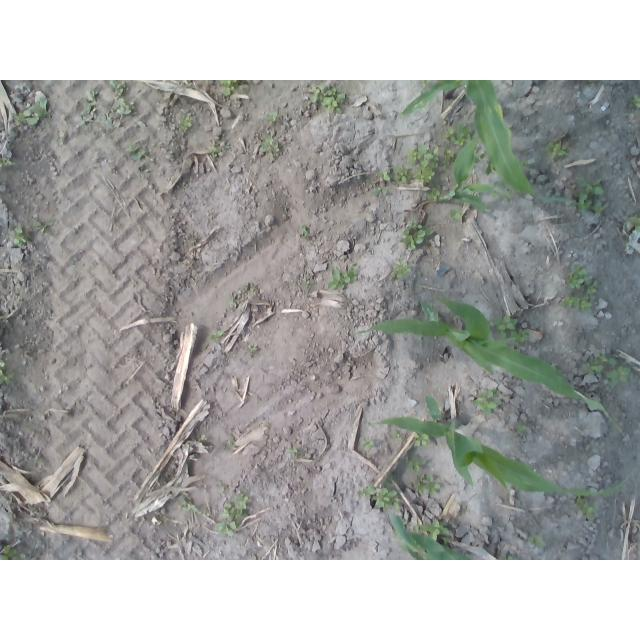Maize: (356, 297, 625, 435), (368, 392, 632, 500), (397, 81, 575, 208), (438, 136, 511, 213), (385, 510, 474, 560)
Weeds: (216, 492, 249, 536), (10, 96, 51, 129), (407, 144, 439, 184), (573, 178, 606, 216), (493, 315, 530, 346), (310, 84, 347, 115), (399, 220, 434, 250), (442, 122, 474, 149), (471, 387, 501, 415), (79, 89, 98, 132), (606, 358, 631, 386), (328, 267, 358, 290), (127, 145, 151, 173), (420, 519, 448, 541), (414, 475, 440, 498), (560, 295, 593, 313), (372, 488, 401, 508), (565, 265, 588, 290), (583, 352, 606, 376), (544, 137, 568, 159), (576, 496, 596, 520), (260, 134, 280, 158), (402, 454, 426, 472), (390, 258, 410, 279), (1, 359, 16, 385), (32, 217, 54, 234), (493, 181, 512, 199), (392, 166, 412, 183), (0, 544, 20, 560), (12, 226, 28, 246), (116, 97, 133, 115), (221, 80, 240, 96), (106, 81, 126, 96), (581, 278, 598, 295), (412, 430, 430, 446), (527, 534, 547, 548), (444, 147, 456, 170), (180, 498, 199, 512), (357, 485, 376, 499), (426, 186, 441, 202), (179, 114, 193, 130), (472, 150, 488, 163), (628, 215, 640, 232), (361, 438, 375, 451), (516, 420, 528, 435), (485, 161, 497, 176), (372, 187, 389, 197), (383, 474, 397, 486), (377, 170, 391, 182), (1, 157, 16, 168), (207, 145, 220, 157), (449, 208, 462, 220), (209, 329, 223, 340), (629, 95, 640, 109), (286, 448, 302, 457), (266, 111, 279, 122), (393, 430, 403, 442), (301, 225, 310, 237), (518, 159, 530, 168), (228, 297, 237, 307), (505, 554, 520, 560), (302, 280, 311, 289), (443, 536, 453, 544), (401, 517, 408, 528), (412, 526, 420, 535), (249, 342, 258, 350), (420, 80, 432, 86), (160, 517, 168, 524), (202, 509, 210, 516), (250, 285, 257, 292), (246, 80, 250, 82)
